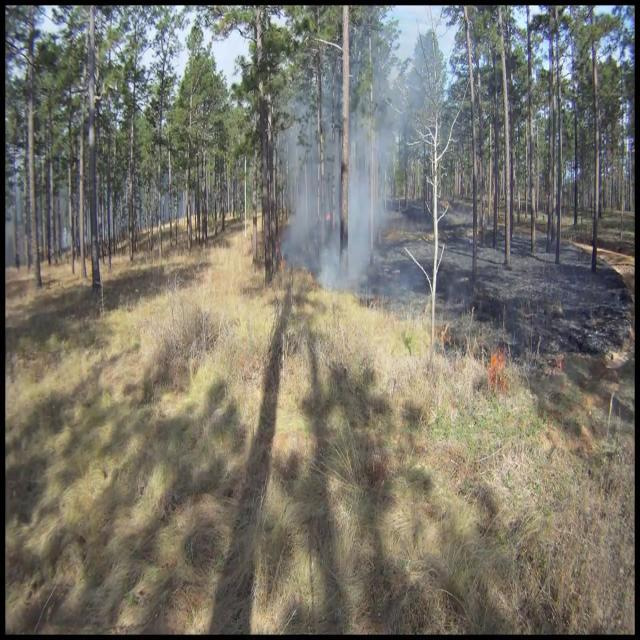Smoke: (280, 42, 412, 308)
